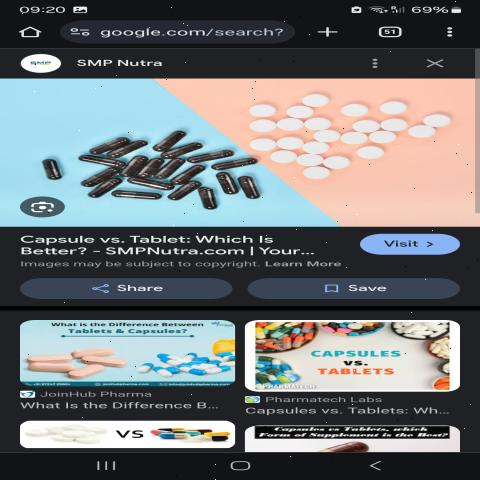Pill: (188, 185, 237, 212), (146, 125, 197, 150), (80, 176, 123, 205), (236, 172, 272, 200), (116, 188, 168, 206), (295, 162, 343, 181), (37, 156, 75, 180), (418, 111, 468, 128), (188, 147, 237, 164), (374, 100, 420, 116), (320, 154, 356, 172), (361, 144, 395, 162), (244, 102, 282, 118), (304, 92, 337, 110), (338, 102, 372, 119), (246, 138, 282, 154), (342, 129, 370, 145), (305, 118, 339, 131)
